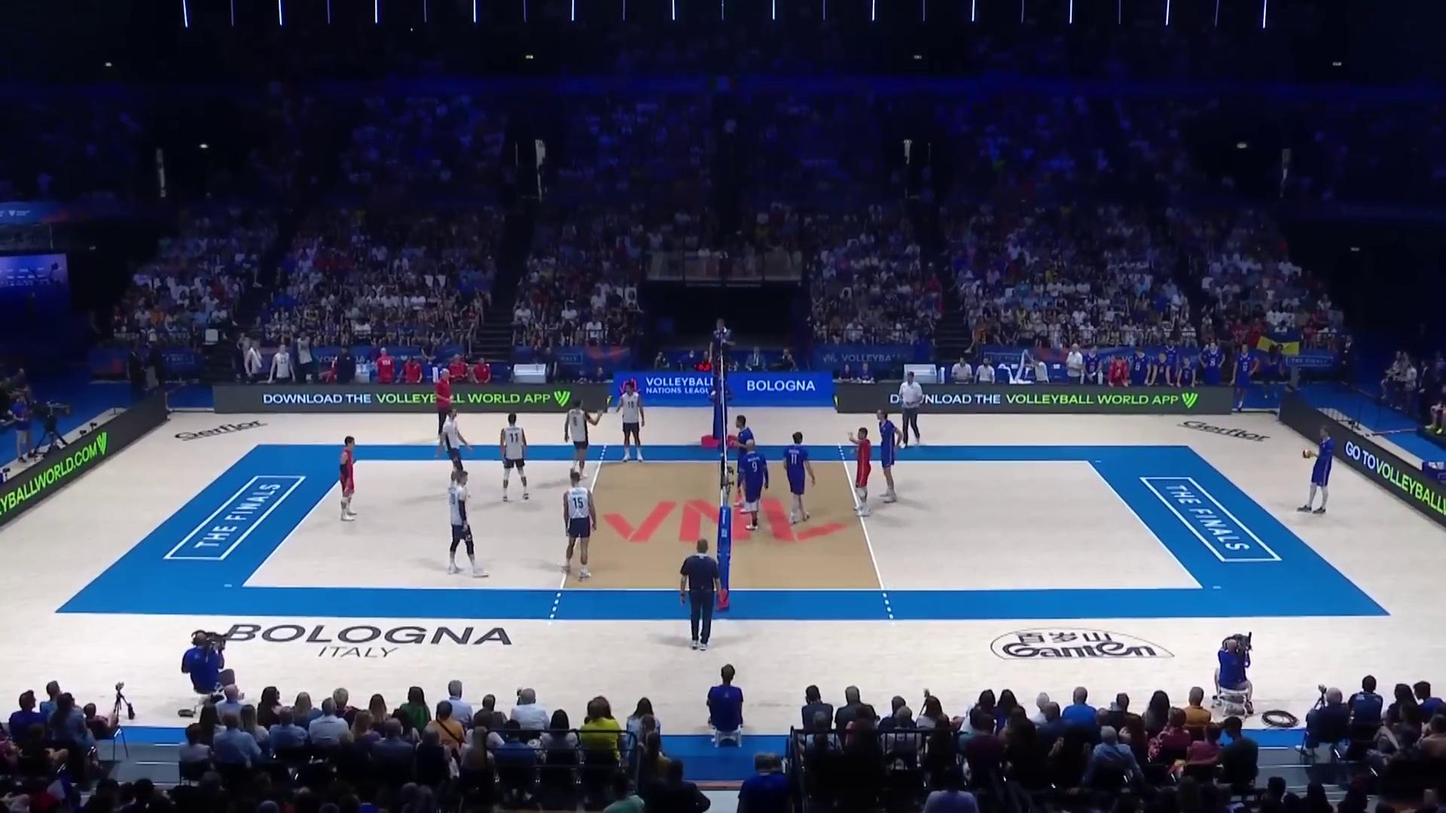player: (444, 470, 489, 577), (562, 470, 594, 582), (1296, 428, 1336, 515), (781, 430, 815, 527), (738, 438, 770, 532), (563, 400, 599, 480), (443, 407, 475, 496), (497, 413, 529, 500), (615, 381, 648, 464), (876, 409, 903, 502), (849, 426, 875, 518), (335, 437, 359, 520), (732, 416, 754, 506)
refree: (682, 540, 723, 650), (711, 321, 733, 398)
